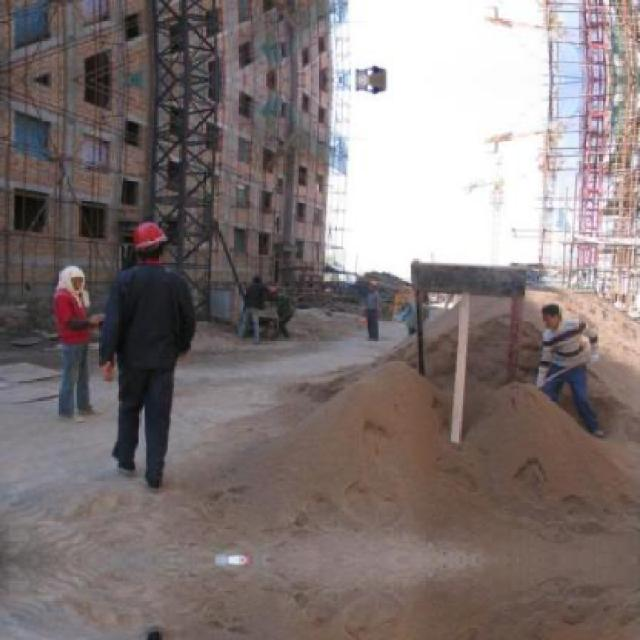con casco: (110, 204, 190, 276)
sin casco: (36, 251, 108, 306), (521, 281, 570, 351)
